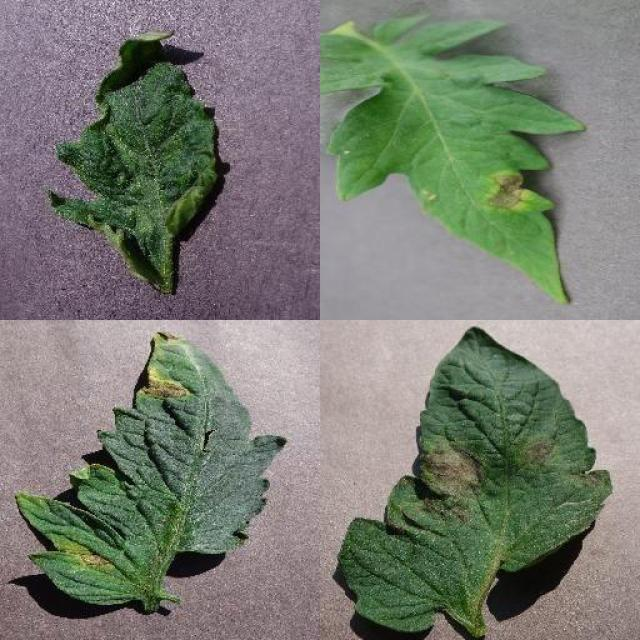Early Blight: (15, 332, 289, 608)
Late Blight: (340, 324, 616, 631), (320, 14, 588, 308)
